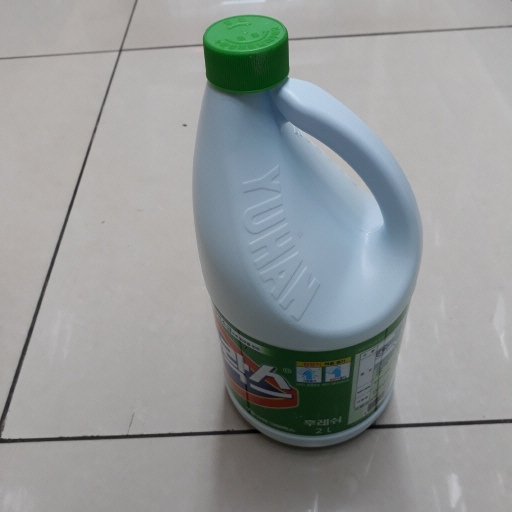Plastic_1: (197, 15, 423, 455)
